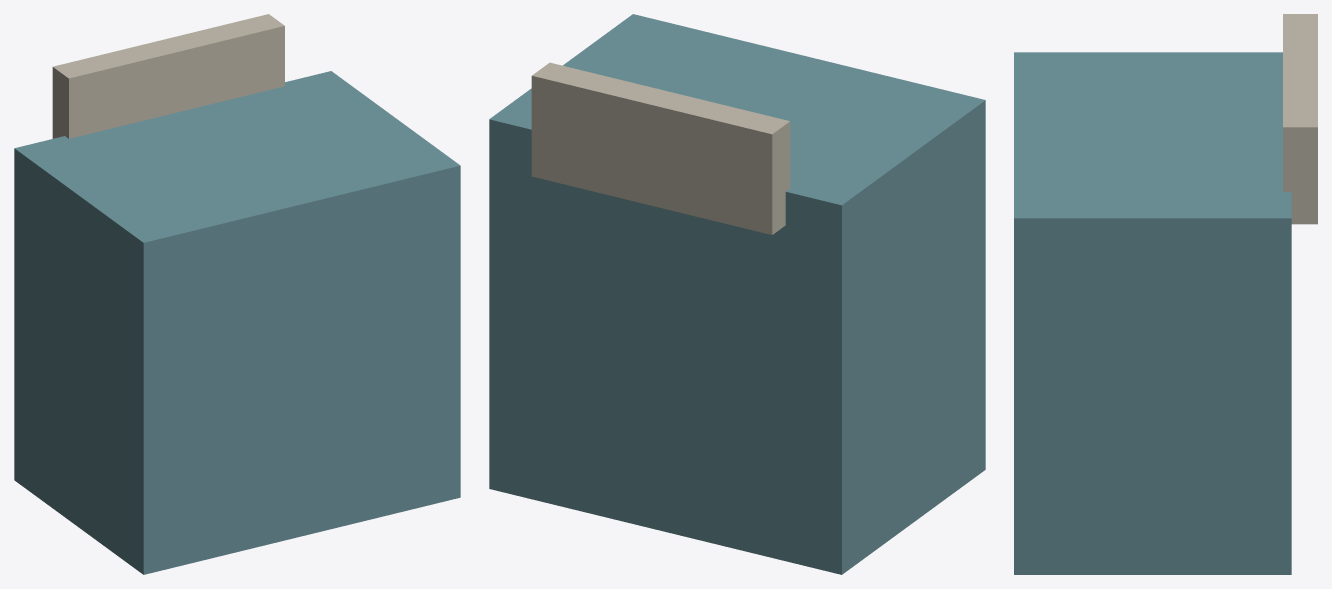
File: iz2_item_chickpea_can.glb
3 views of the same model, side by side, from view 1: azimuth 30°, elevation 25°; view 2: azimuth 150°, elevation 25°; view 3: azimuth 270°, elevation 25° (orthographic). The views are drawn at different scales.
Visible parts, largest first — view 1: body; view 2: body; view 3: body.
Part boxes in pixels (left/top/right/bottom): body: left=14, top=14, right=460, bottom=574; body: left=489, top=14, right=985, bottom=574; body: left=1014, top=14, right=1317, bottom=574.
Bounding box in the file's own units: 0.223 × 0.2639 × 0.1724.
